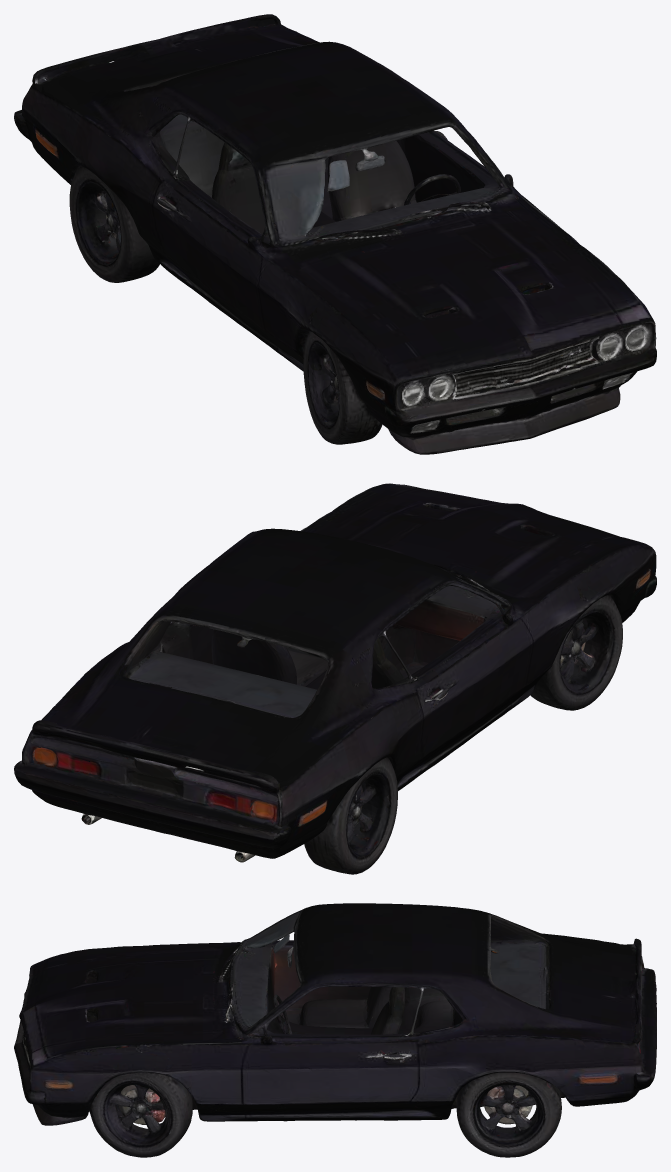
Rendered from car_muscle.glb.
3 renders of one model, top to bottom at view 1: azimuth 30°, elevation 25°; view 2: azimuth 150°, elevation 25°; view 3: azimuth 270°, elevation 25°, orthographic. The views are drawn at different scales.
Visible parts, largest first — view 1: world; view 2: world; view 3: world.
Part boxes in pixels (x1,y1,x2,y2): world: (14,14,656,454); world: (14,483,656,874); world: (14,903,656,1157).
Size of the model in its own units: 0.8551 by 0.5888 by 1.99.
Materials: 1 (1 with a texture image).
